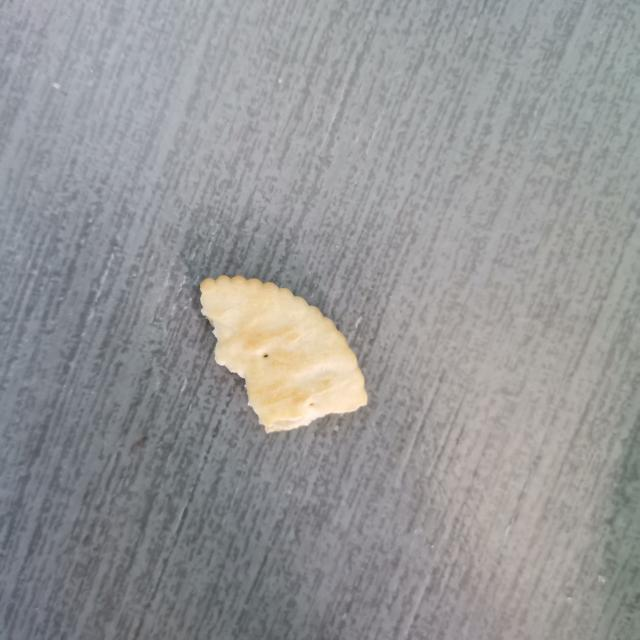Broken: (198, 273, 369, 435)
